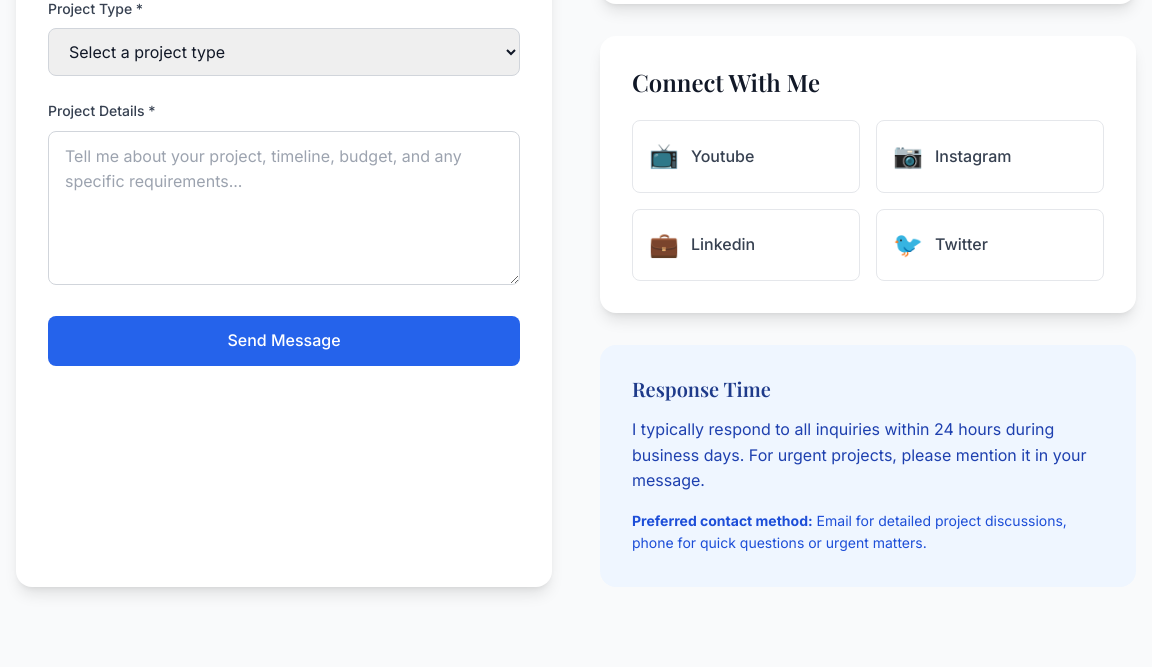
Contact Component Unit Tests › Form Field Validation and Submission › should show validation errors for empty required fields
(page scrolled)
Click the button "Send Message".
click(284, 341)  # box [48,316,520,366]
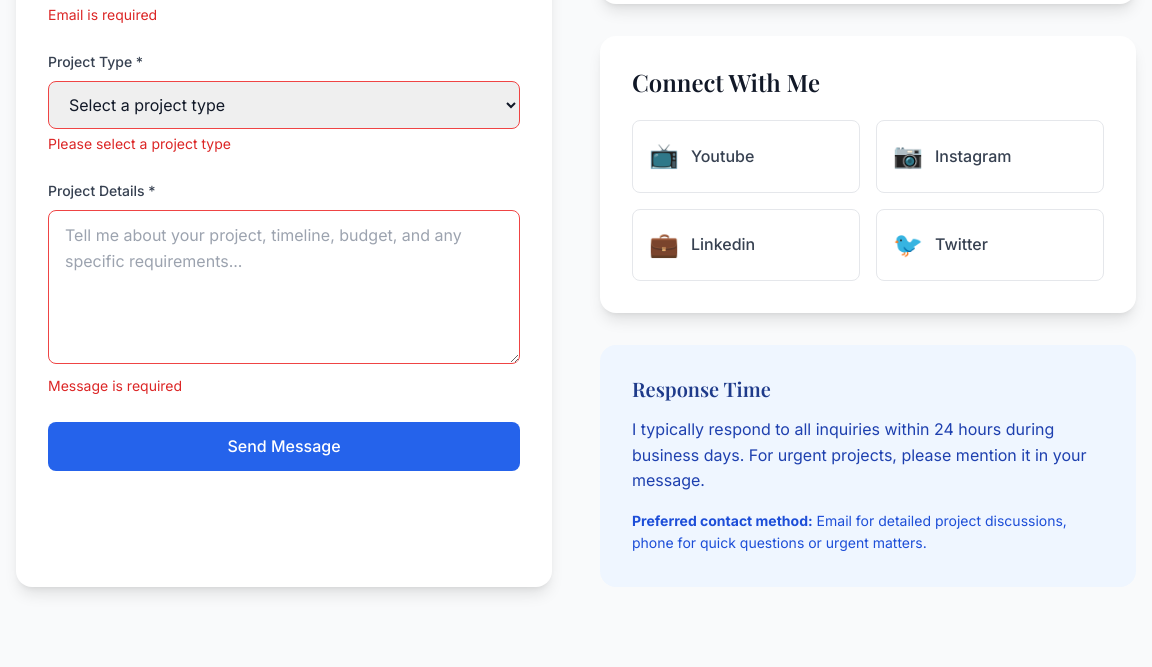
Expected: the text "Email is required" is shown, [48,6,157,23]
Expected: the text "Please select a project type" is shown, [48,135,231,152]
Expected: the text "Message is required" is shown, [48,378,182,394]
